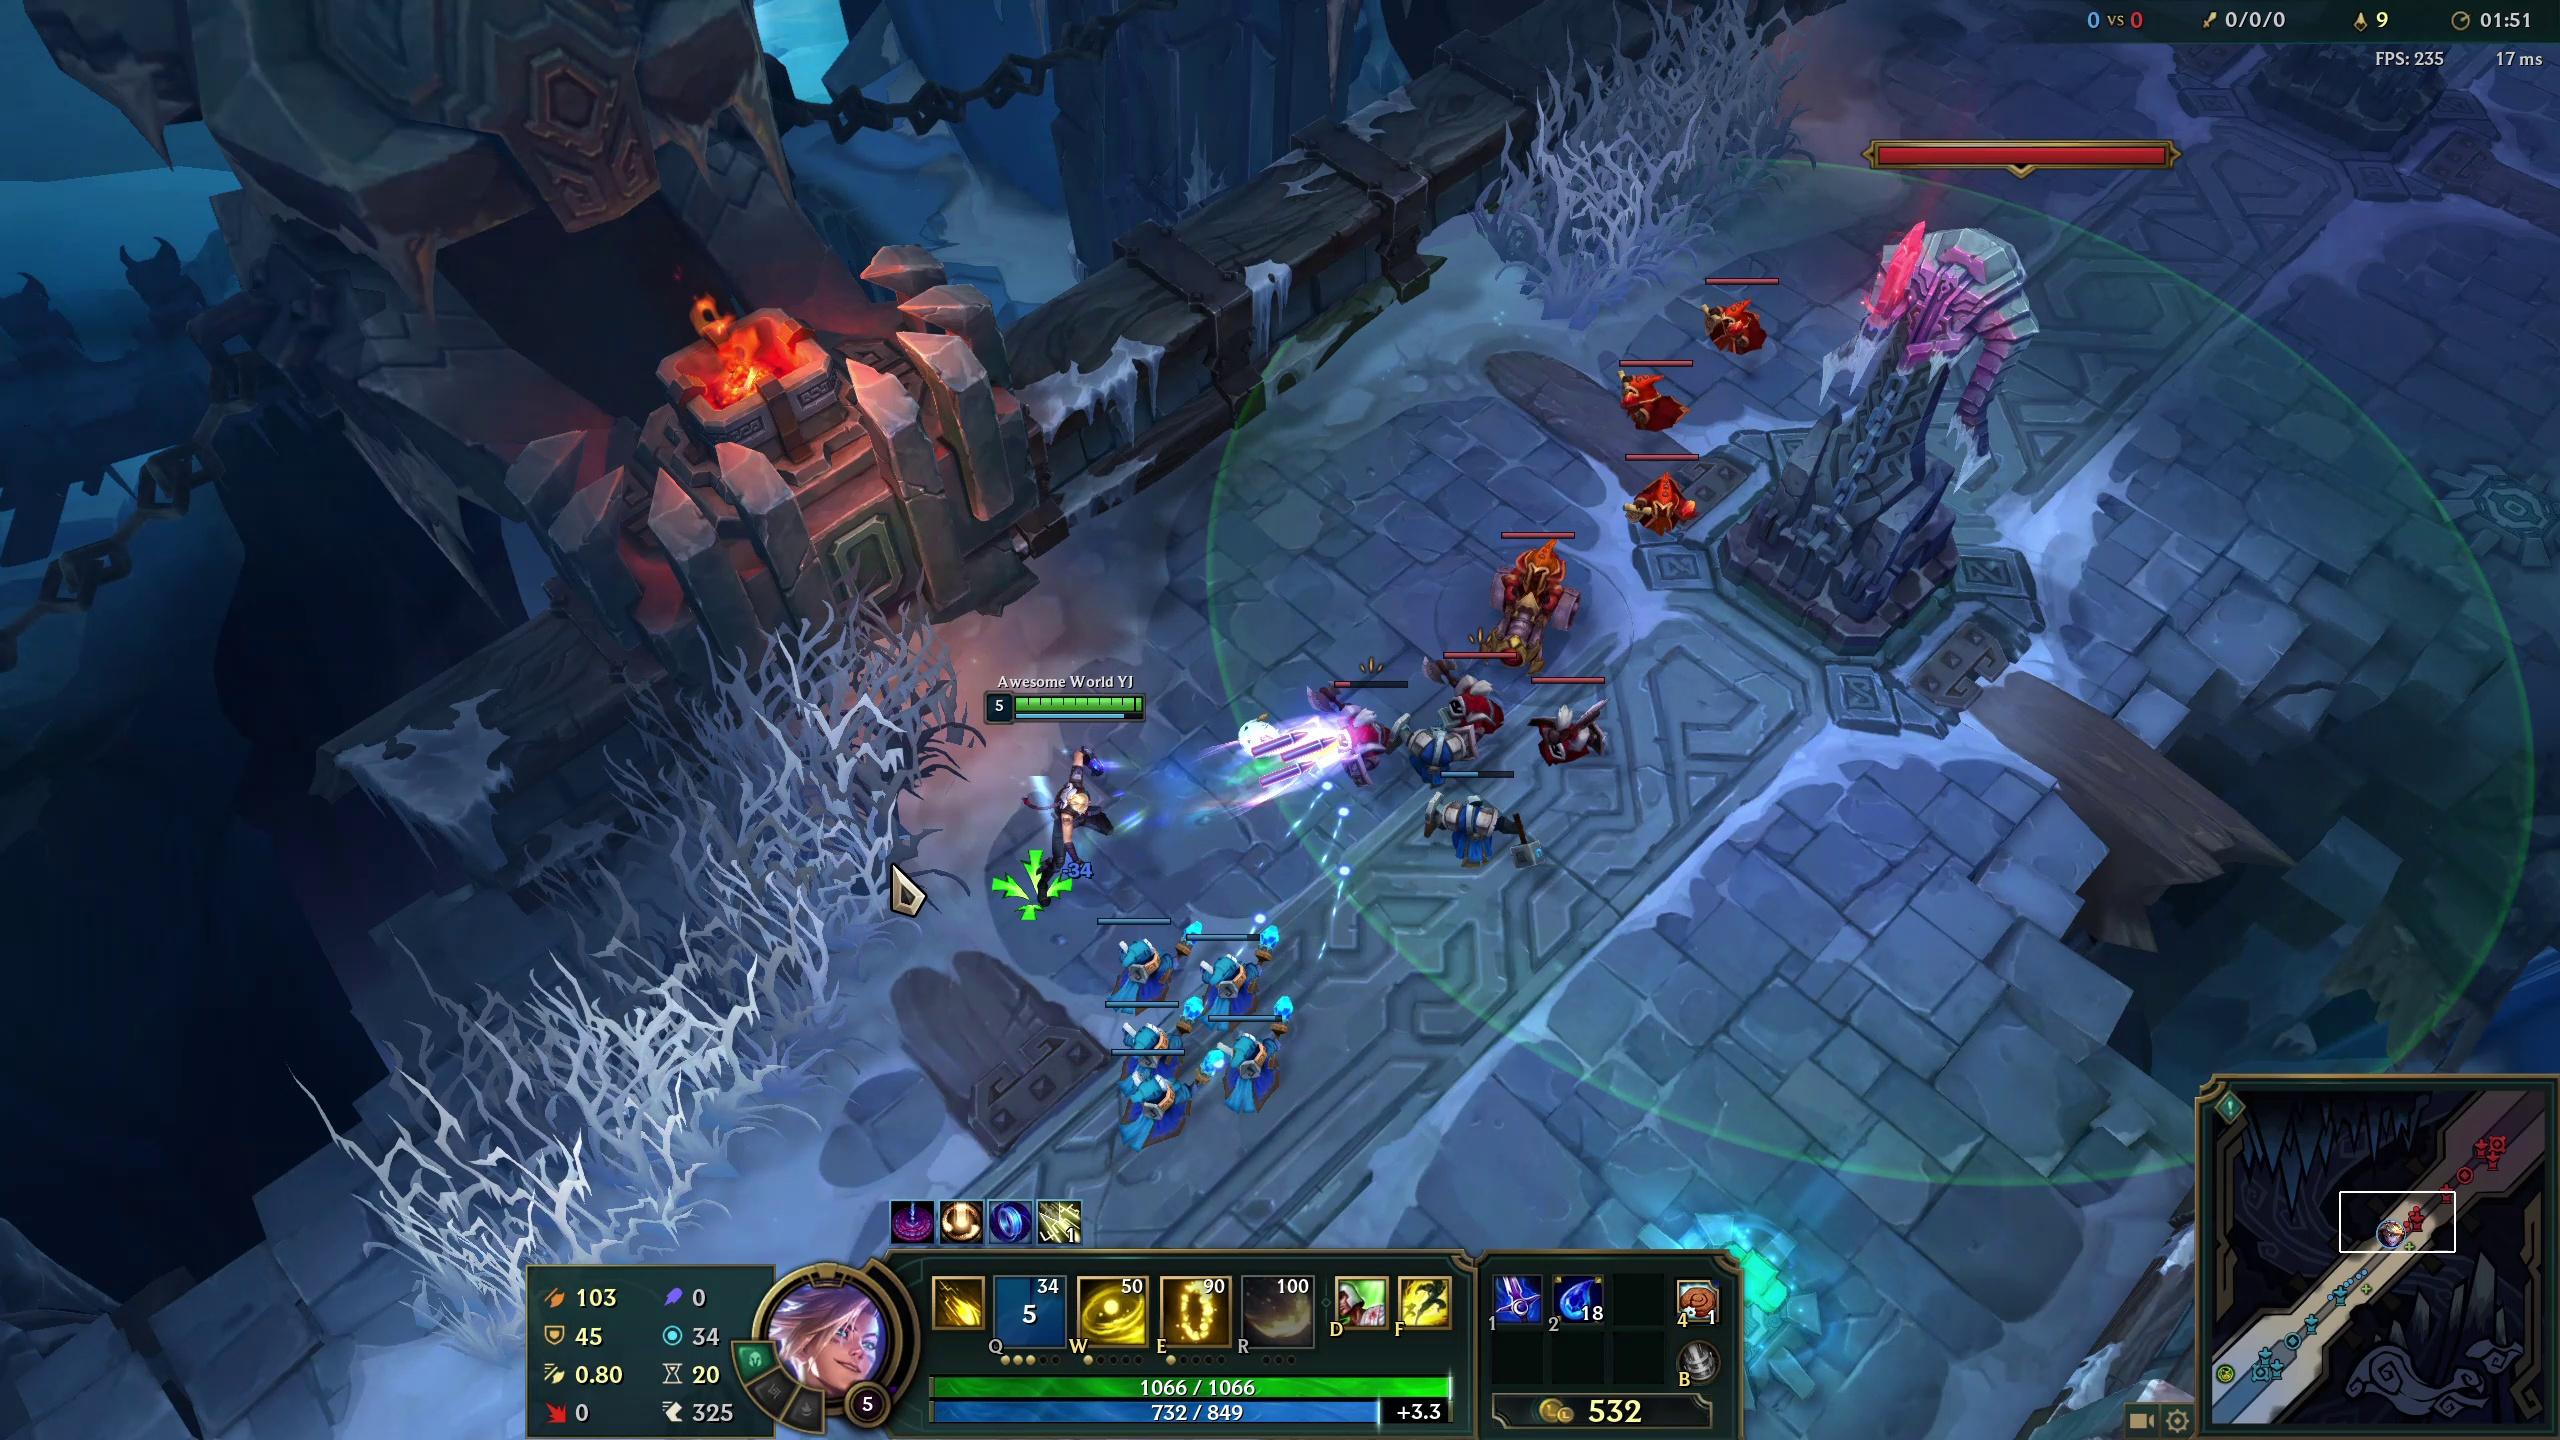EZ: (985, 679, 1141, 905)
EnemyMinion: (1438, 644, 1516, 761), (1326, 665, 1407, 777), (1530, 658, 1605, 777), (1619, 445, 1718, 536), (1609, 348, 1705, 440), (1686, 265, 1783, 355)
EnemySuperMinnion: (1487, 522, 1581, 642)
Glass: (425, 1015, 680, 1268), (665, 661, 920, 914), (1531, 56, 1792, 264)
MyMinion: (1088, 979, 1199, 1099), (1071, 898, 1182, 1018), (1175, 907, 1285, 1027), (1421, 761, 1531, 881), (1094, 1037, 1204, 1155), (1196, 999, 1306, 1116)
Turret: (1800, 216, 1999, 644)
